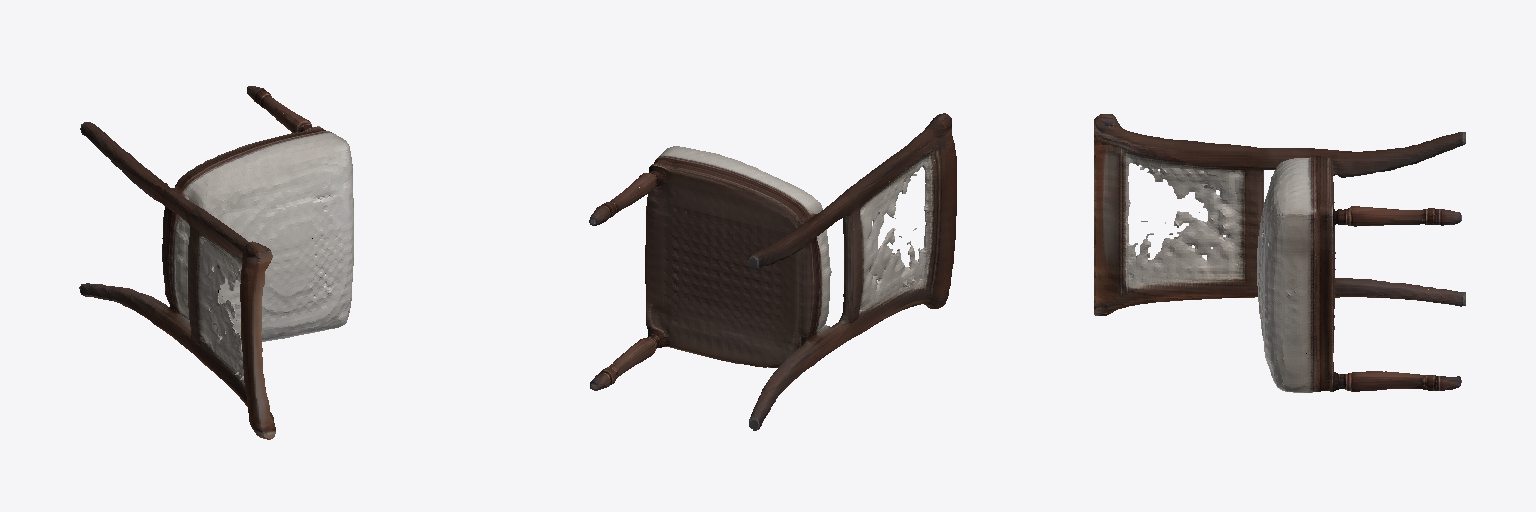
3 renders of one model, left to right at view 1: azimuth 30°, elevation 25°; view 2: azimuth 150°, elevation 25°; view 3: azimuth 270°, elevation 25°, orthographic.
Bounding box in the file's own units: 1.23 × 1.14 × 1.97.
1 materials, 1 textured.